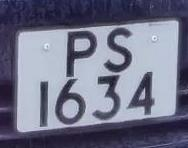1: (31, 75, 55, 132)
3: (89, 74, 126, 126)
4: (125, 66, 161, 123)
6: (52, 76, 90, 130)
P: (57, 24, 103, 80)
S: (100, 22, 138, 76)
